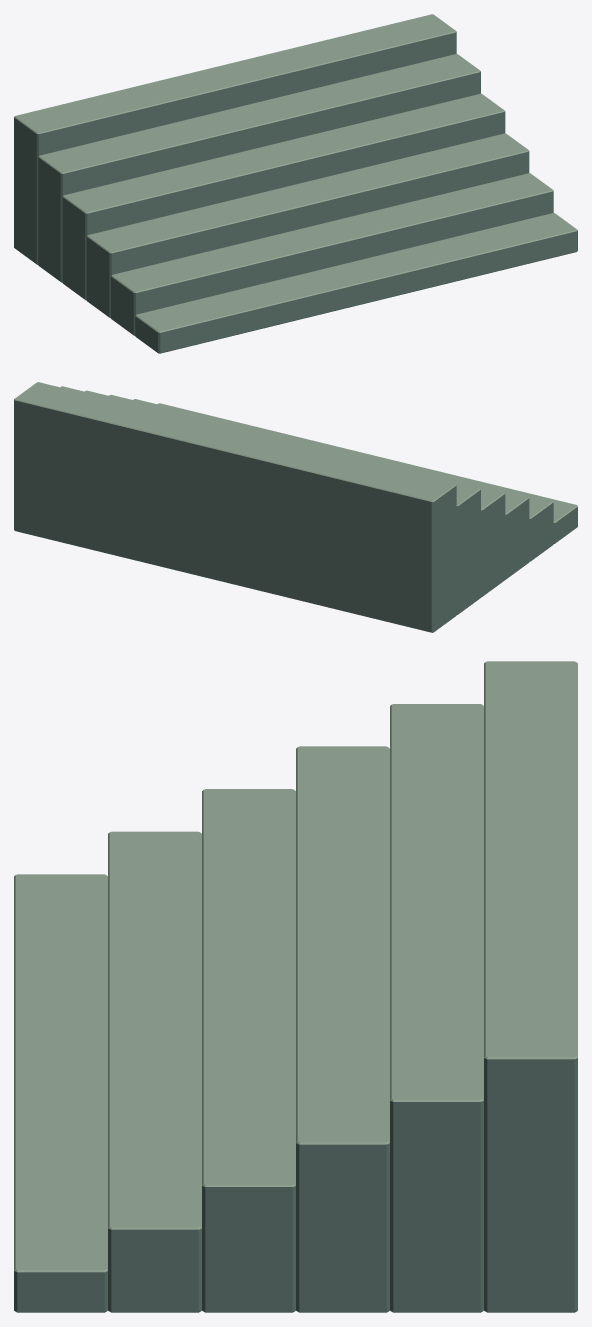
The model's file is stair-wide.glb.
3 renders of one model, top to bottom at view 1: azimuth 30°, elevation 25°; view 2: azimuth 150°, elevation 25°; view 3: azimuth 270°, elevation 25°, orthographic. The views are drawn at different scales.
Parts seen in each view (by area): view 1: stair-wide__body; view 2: stair-wide__body; view 3: stair-wide__body.
Part boxes in pixels (x1=…): stair-wide__body: x1=14, y1=14, x2=577, y2=353; stair-wide__body: x1=14, y1=382, x2=577, y2=632; stair-wide__body: x1=14, y1=661, x2=577, y2=1312.
Size of the model in its own units: 4 by 1.2 by 2.4.
